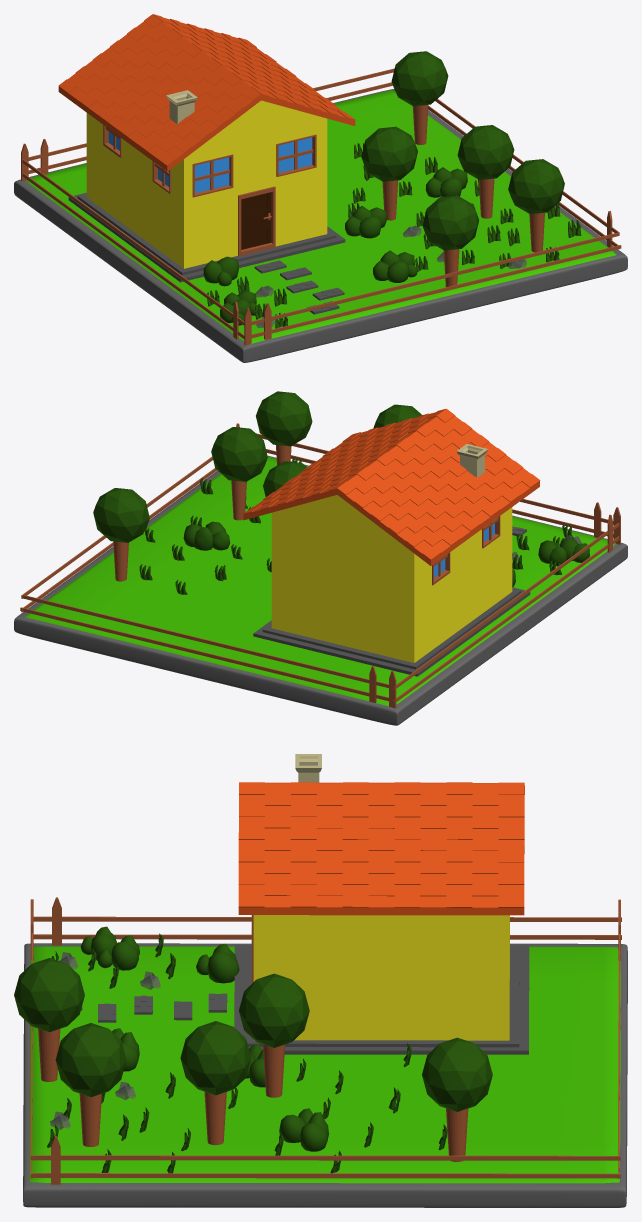
File: Home.glb
The picture shows the model from 3 angles, top to bottom: view 1: azimuth 30°, elevation 25°; view 2: azimuth 150°, elevation 25°; view 3: azimuth 270°, elevation 25°; orthographic projection. The views are drawn at different scales.
Visible parts, largest first — view 1: Plane.011, Cube, Cube.001, Plane.010, Icosphere, Icosphere.002, Icosphere.001, Icosphere.004, Icosphere.003, Plane.106, Plane.099, Plane.112 (+13 smaller); view 2: Plane.011, Cube, Cube.001, Plane.010, Icosphere.001, Icosphere.003, Icosphere.002, Plane.110, Plane.109, Plane.112, Plane.111, Icosphere (+8 smaller); view 3: Plane.011, Cube.001, Cube, Plane.010, Icosphere.001, Icosphere, Icosphere.004, Icosphere.002, Icosphere.003, Plane.107, Plane.108, Plane.111 (+10 smaller).
Boxes of the visible parts, x1,y1,x2,y2 form: Plane.011: [26, 90, 616, 344]; Cube: [68, 100, 345, 282]; Cube.001: [58, 14, 355, 171]; Plane.010: [14, 89, 627, 362]; Icosphere: [361, 126, 417, 181]; Icosphere.002: [391, 51, 448, 106]; Icosphere.001: [457, 125, 514, 179]; Icosphere.004: [422, 195, 479, 250]; Icosphere.003: [508, 159, 564, 213]; Plane.106: [251, 245, 621, 338]; Plane.099: [251, 232, 619, 324]; Plane.112: [22, 173, 244, 338]; Plane.011: [25, 456, 615, 706]; Cube: [253, 495, 530, 676]; Cube.001: [243, 408, 540, 565]; Plane.010: [14, 455, 627, 725]; Icosphere.001: [211, 427, 267, 481]; Icosphere.003: [256, 391, 312, 446]; Icosphere.002: [93, 488, 149, 542]; Plane.110: [20, 607, 388, 701]; Plane.109: [23, 595, 388, 687]; Plane.112: [393, 536, 619, 703]; Plane.111: [393, 523, 619, 689]; Icosphere: [263, 461, 306, 496]; Plane.011: [29, 946, 620, 1183]; Cube.001: [238, 782, 524, 915]; Cube: [234, 915, 529, 1054]; Plane.010: [23, 943, 627, 1207]; Icosphere.001: [180, 1021, 251, 1095]; Icosphere: [239, 973, 309, 1047]; Icosphere.004: [14, 958, 84, 1032]; Icosphere.002: [422, 1037, 492, 1111]; Icosphere.003: [55, 1023, 126, 1097]; Plane.107: [31, 1155, 620, 1160]; Plane.108: [32, 1173, 620, 1178]; Plane.111: [33, 916, 621, 921].
Bounding box in the file's own units: 3.88 × 1.8 × 4.08.
